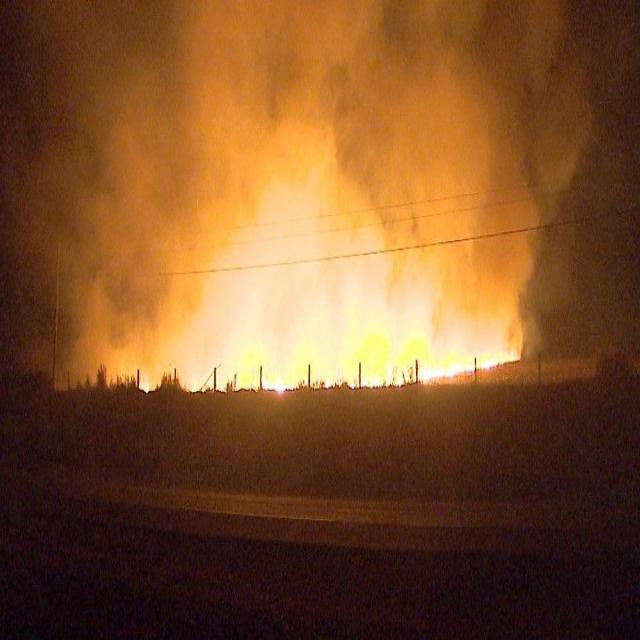Fire: (246, 351, 518, 392), (188, 378, 208, 392), (140, 377, 152, 398)
